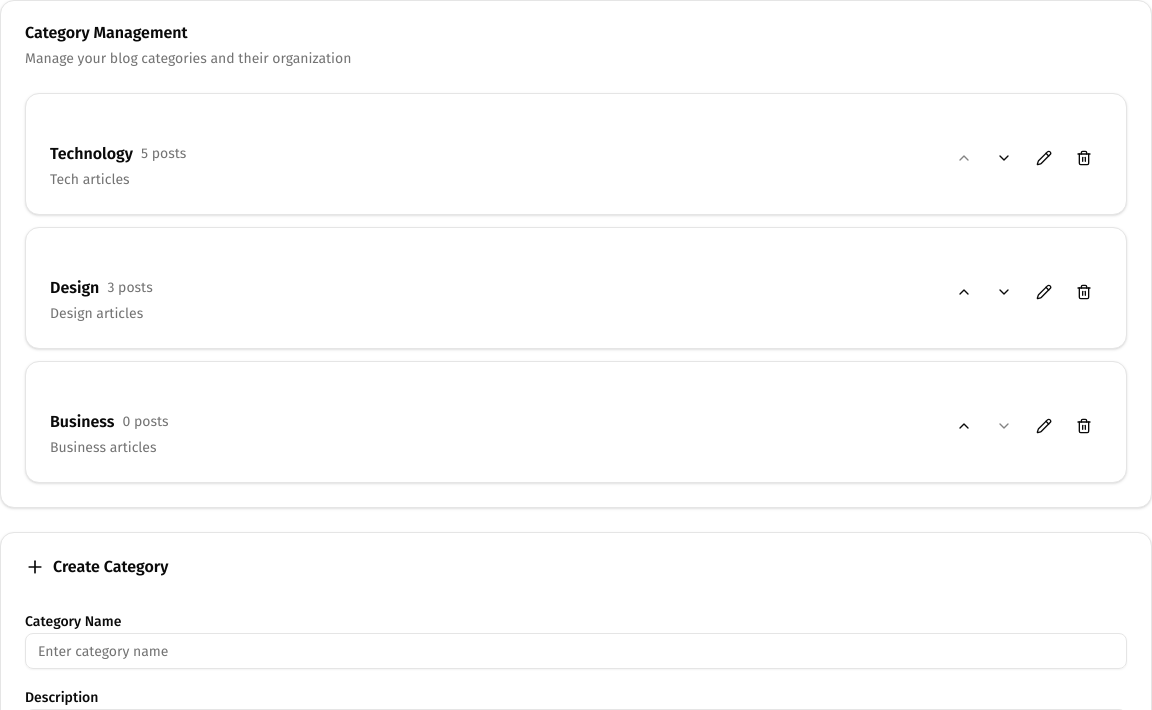
Test: CategoryManager › Edit Category › should validate edited category name
Click the button named "edit" in the row of "Technology": (1044, 158) [1026,142,1062,174]
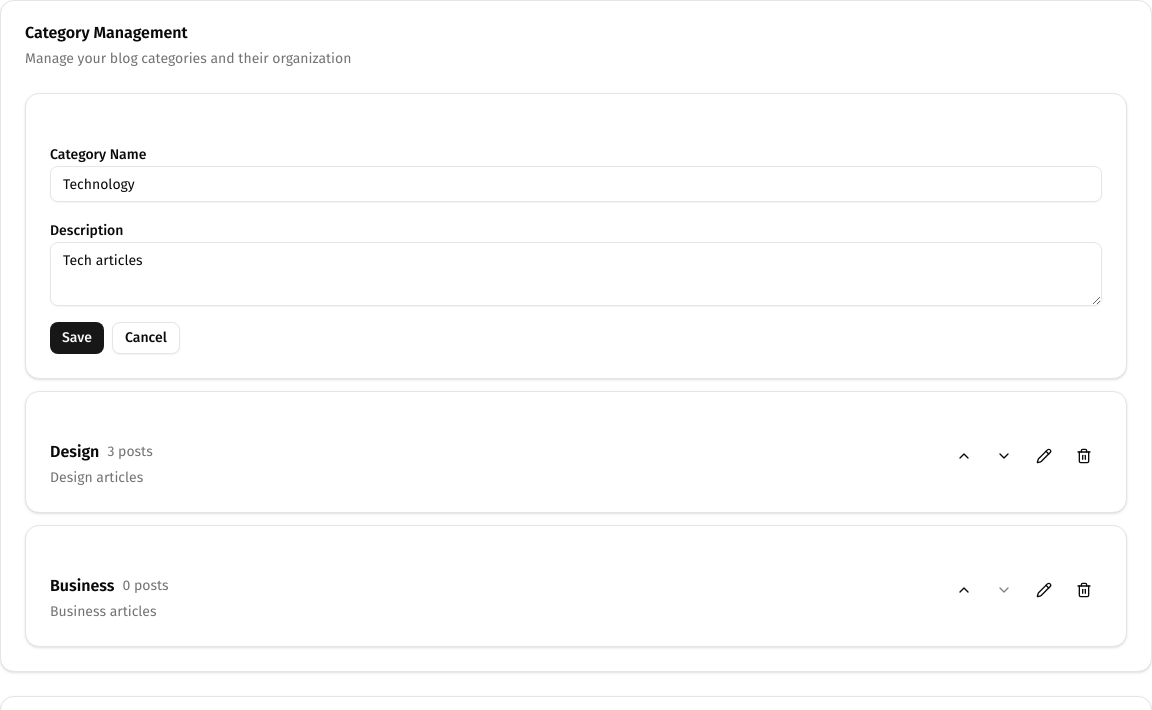
Clear the field showing "Technology": (576, 184) [50,166,1102,202]
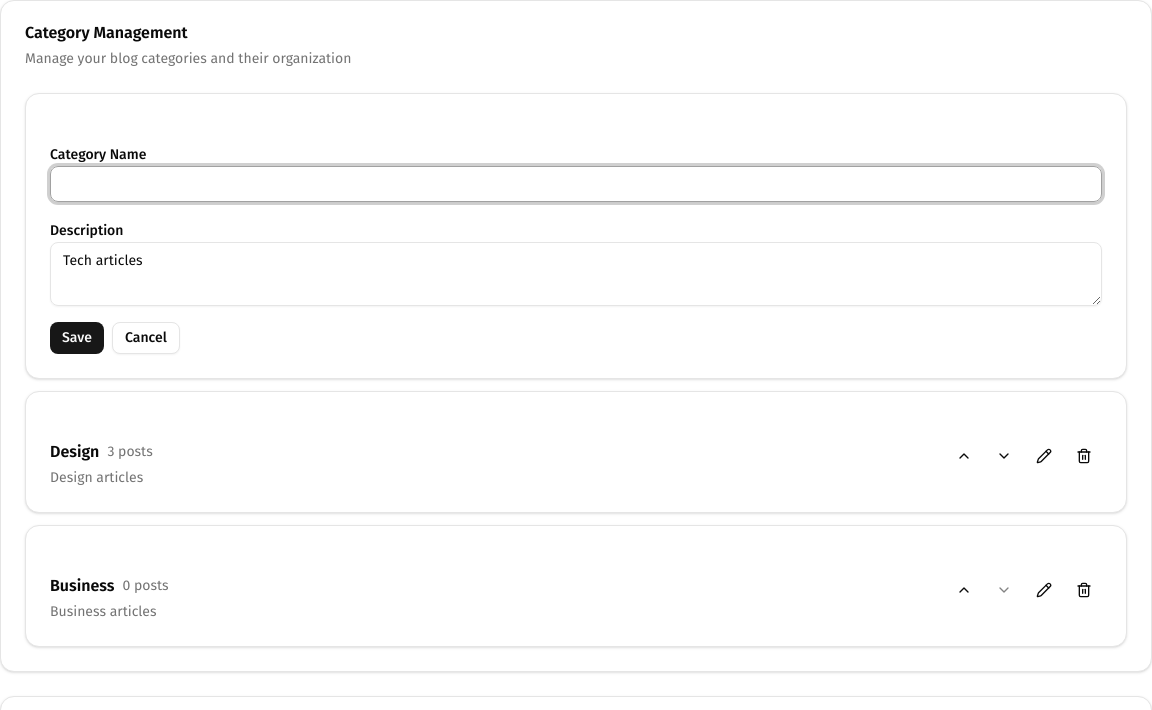
Click the button "Save": (77, 338) [50,322,104,354]
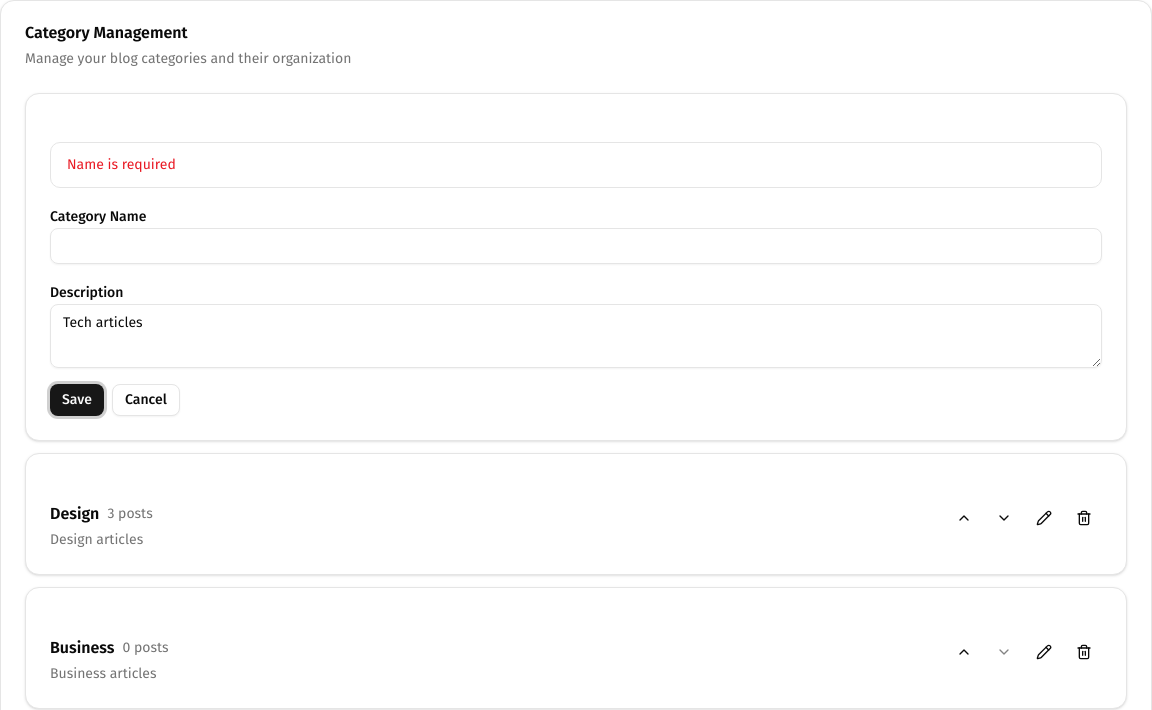
Result: the text "Name is required" is shown at [67,156,176,173]
